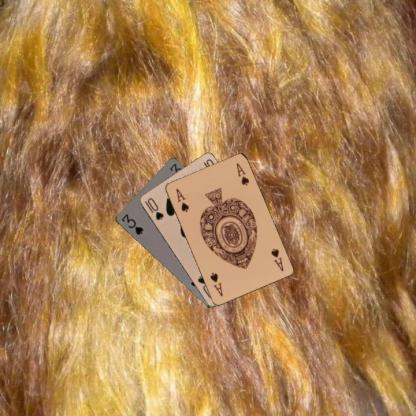10s: (142, 196, 165, 222)
3s: (118, 212, 144, 236)
As: (173, 186, 190, 213), (268, 245, 285, 272)
